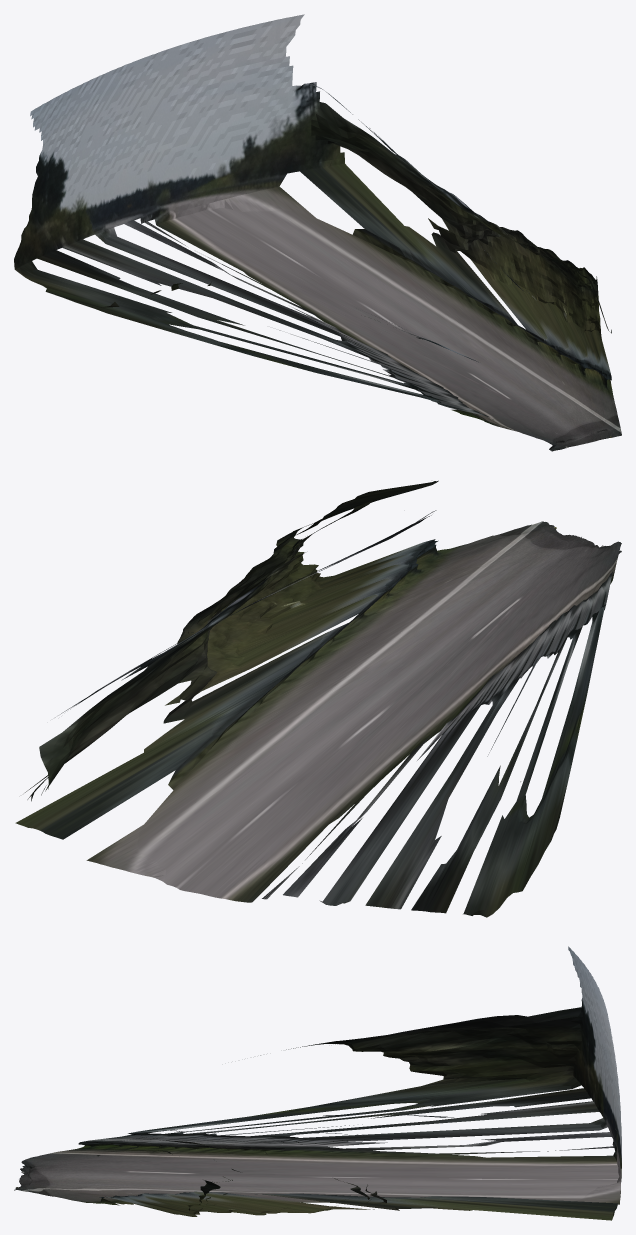
3 views of the same model, one above another, from view 1: azimuth 30°, elevation 25°; view 2: azimuth 150°, elevation 25°; view 3: azimuth 270°, elevation 25° (orthographic). The views are drawn at different scales.
Visible parts, largest first — view 1: defaultobject; view 2: defaultobject; view 3: defaultobject.
Part boxes in pixels (<box>): defaultobject: <box>14,14,621,451</box>; defaultobject: <box>15,480,621,917</box>; defaultobject: <box>14,946,621,1220</box>.
Size of the model in its own units: 27.66 by 12.47 by 44.77.
1 material, 1 textured.
